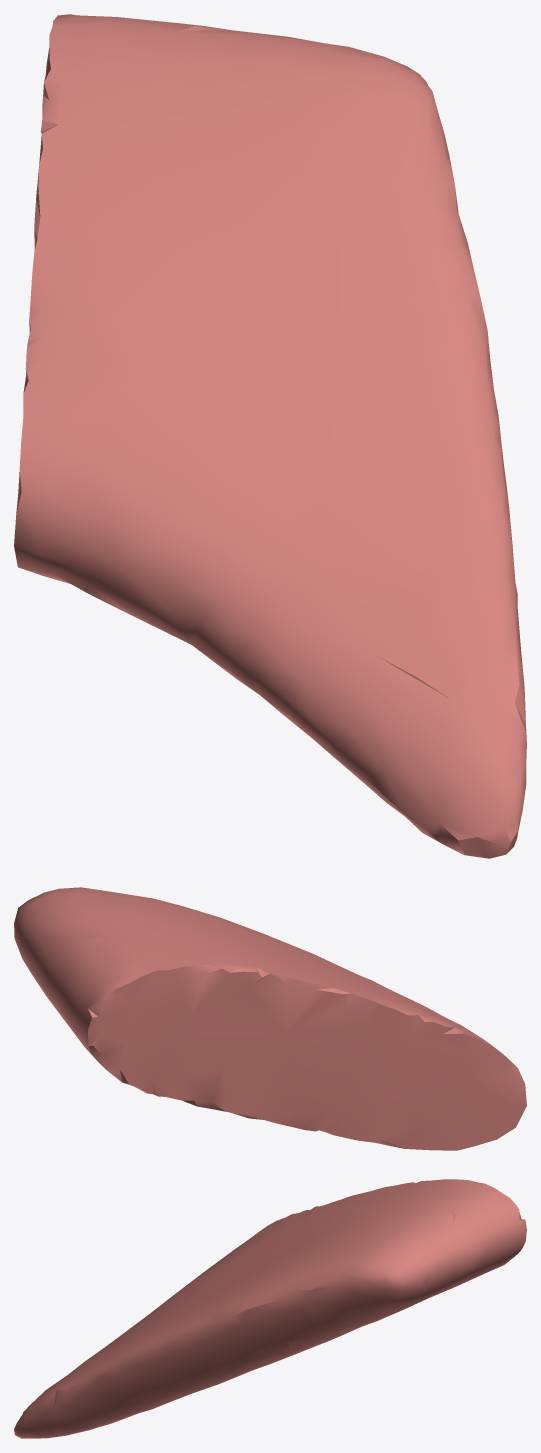
Rendered from fma54144-n_mm2218m.glb.
3 views of the same model, one above another, from view 1: azimuth 30°, elevation 25°; view 2: azimuth 150°, elevation 25°; view 3: azimuth 270°, elevation 25° (orthographic). The views are drawn at different scales.
Parts seen in each view (by area): view 1: FMA54144-N_MM2218M; view 2: FMA54144-N_MM2218M; view 3: FMA54144-N_MM2218M.
Boxes of the visible parts, bbox=[...] form: FMA54144-N_MM2218M: bbox=[14, 14, 526, 858]; FMA54144-N_MM2218M: bbox=[14, 887, 526, 1150]; FMA54144-N_MM2218M: bbox=[14, 1179, 526, 1438].
Bounding box in the file's own units: 0.00455 × 0.00396 × 0.0072.
